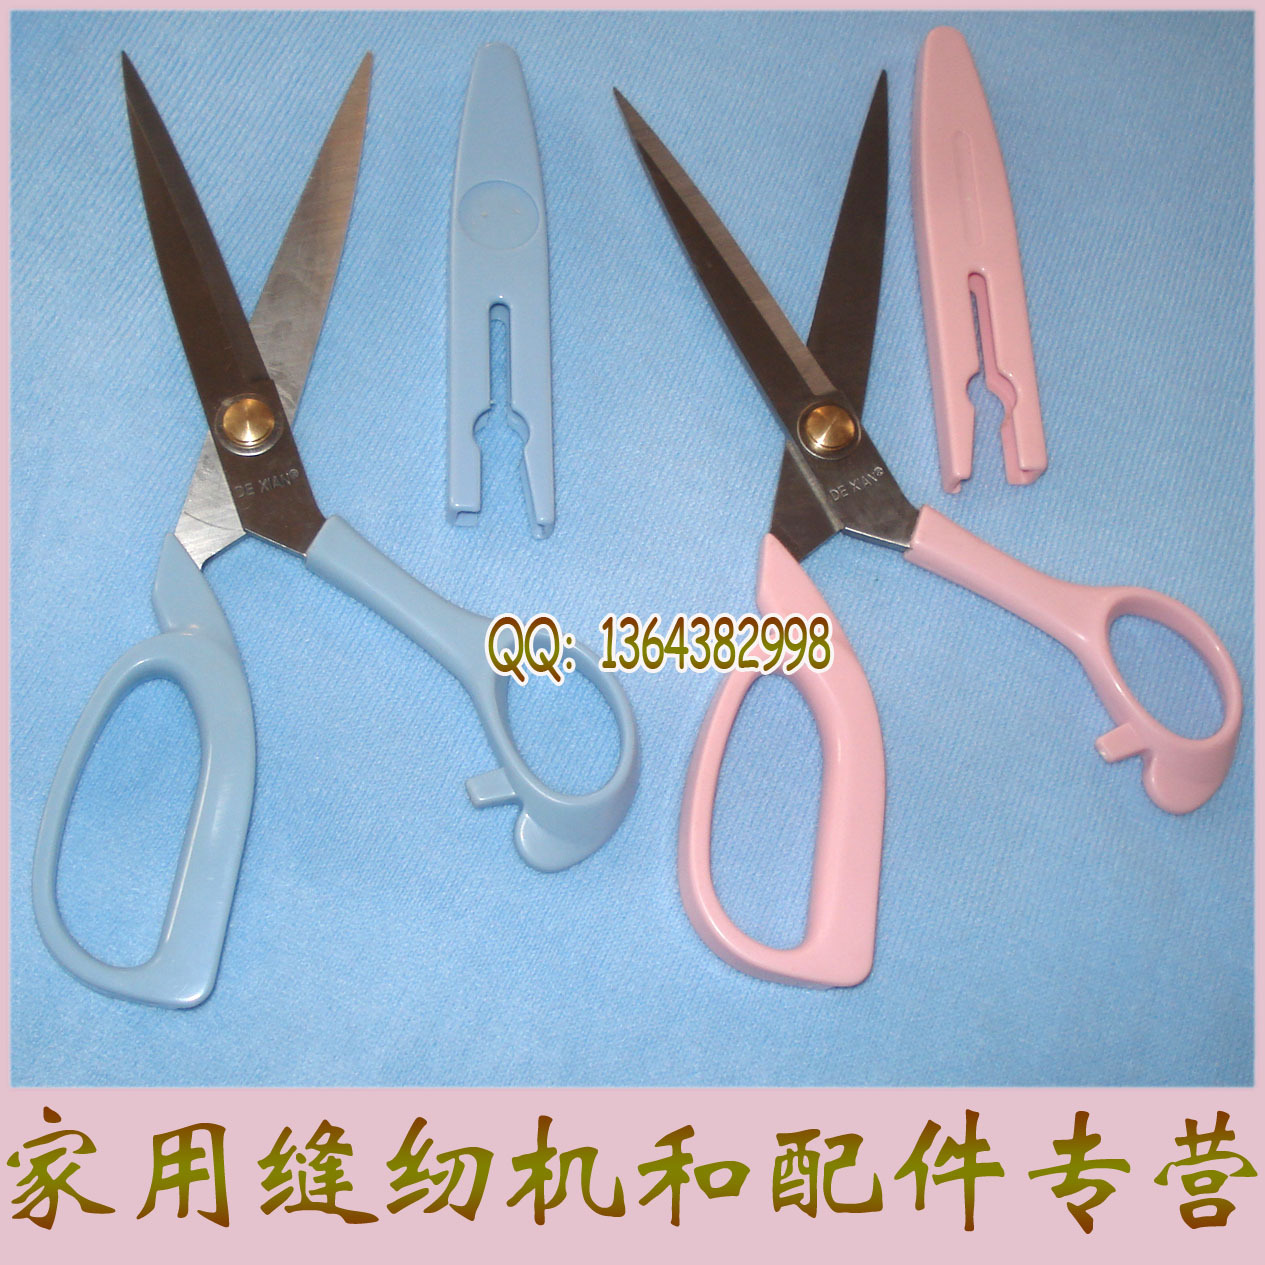scissors: (29, 25, 652, 1024), (604, 57, 1265, 994)
